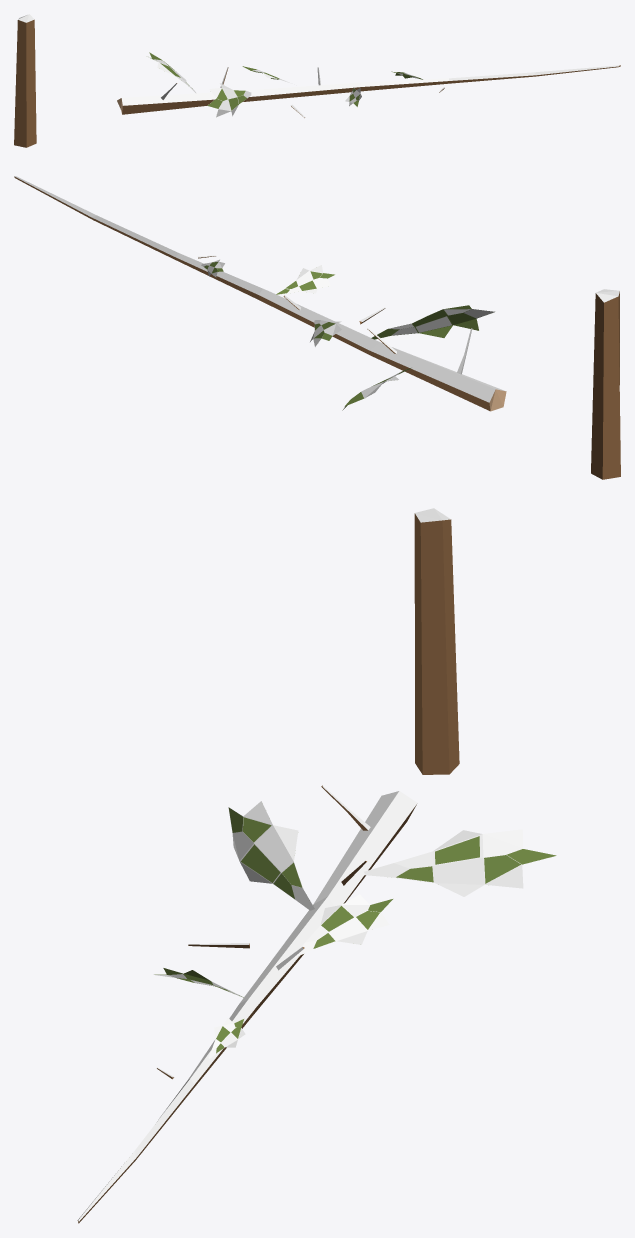
The model's file is Dead_Pine_Tree_crk_l_Snow_08.fbx.
The picture shows the model from 3 angles, top to bottom: view 1: azimuth 30°, elevation 25°; view 2: azimuth 150°, elevation 25°; view 3: azimuth 270°, elevation 25°; orthographic projection. The views are drawn at different scales.
Visible parts, largest first — view 1: Dead_Pine_Tree_crk_l_Snow_08; view 2: Dead_Pine_Tree_crk_l_Snow_08; view 3: Dead_Pine_Tree_crk_l_Snow_08.
Boxes of the visible parts, box(x1,y1,x2,y2) form: Dead_Pine_Tree_crk_l_Snow_08: box(14, 14, 620, 147); Dead_Pine_Tree_crk_l_Snow_08: box(14, 176, 620, 479); Dead_Pine_Tree_crk_l_Snow_08: box(77, 508, 556, 1223).
Bounding box in the file's own units: 1624 × 379 × 652.
